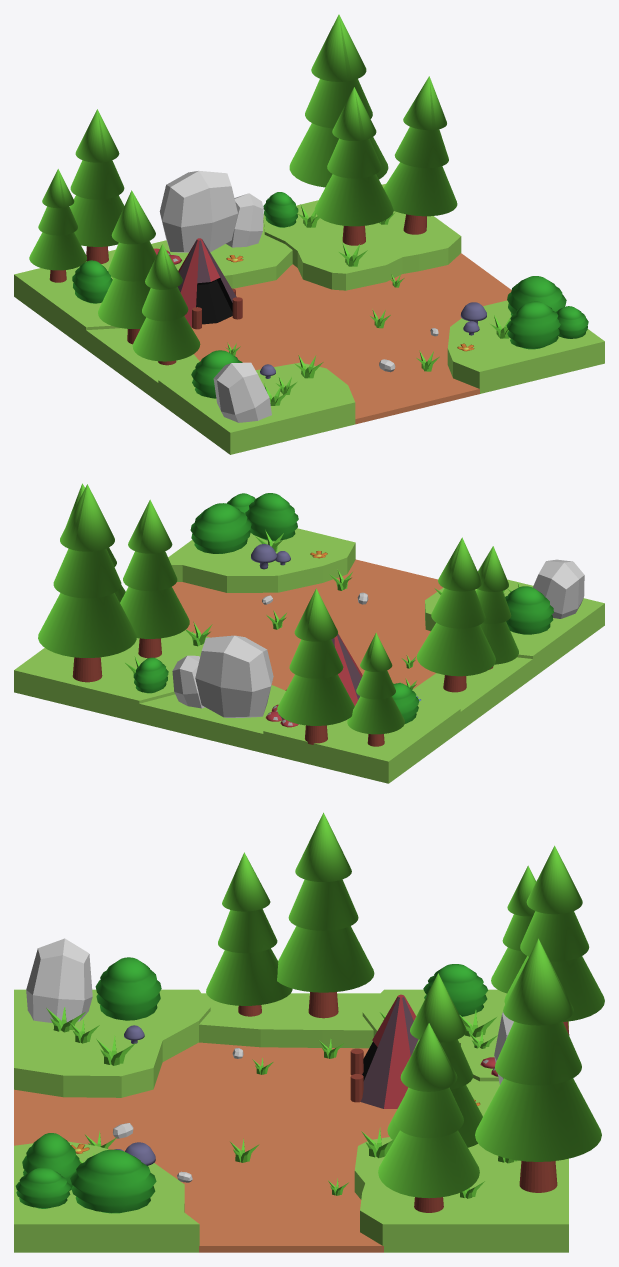
Rendered from jungle level set - 2 Way (5).fbx.
3 renders of one model, top to bottom at view 1: azimuth 30°, elevation 25°; view 2: azimuth 150°, elevation 25°; view 3: azimuth 270°, elevation 25°, orthographic. The views are drawn at different scales.
Parts seen in each view (by area): view 1: land_platform, tree, tree_002, tree_001, tree_006, stone, tree_005, tree_007, camp, tree_003, stone_004, bush_004 (+6 smaller); view 2: land_platform, tree_001, tree_005, tree_006, tree, stone, tree_003, tree_007, bush, stone_004, bush_004, bush_005 (+5 smaller); view 3: land_platform, tree_001, tree_005, tree_002, tree_007, tree_006, camp, stone_004, bush, tree, bush_005, tree_003 (+3 smaller).
Part boxes in pixels (left/top/right/bottom): land_platform: left=14, top=184, right=604, bottom=454; tree: left=314, top=87, right=393, bottom=245; tree_002: left=383, top=76, right=457, bottom=234; tree_001: left=289, top=14, right=388, bottom=187; tree_006: left=70, top=109, right=124, bottom=263; stone: left=159, top=171, right=237, bottom=252; tree_005: left=98, top=190, right=156, bottom=344; tree_007: left=132, top=244, right=200, bottom=365; camp: left=178, top=238, right=242, bottom=329; tree_003: left=29, top=169, right=86, bottom=282; stone_004: left=213, top=362, right=271, bottom=422; bush_004: left=506, top=301, right=560, bottom=349; land_platform: left=14, top=528, right=604, bottom=783; tree_001: left=38, top=484, right=136, bottom=682; tree_005: left=417, top=537, right=495, bottom=692; tree_006: left=277, top=588, right=354, bottom=744; tree: left=120, top=499, right=189, bottom=658; stone: left=195, top=635, right=273, bottom=717; tree_003: left=347, top=632, right=404, bottom=746; tree_007: left=476, top=546, right=518, bottom=669; bush: left=190, top=503, right=251, bottom=553; stone_004: left=533, top=559, right=584, bottom=618; bush_004: left=245, top=493, right=298, bottom=541; bush_005: left=505, top=586, right=553, bottom=634; land_platform: left=14, top=989, right=568, bottom=1252; tree_001: left=475, top=938, right=601, bottom=1192; tree_005: left=277, top=812, right=374, bottom=1018; tree_002: left=378, top=1023, right=479, bottom=1212; tree_007: left=206, top=852, right=292, bottom=1016; tree_006: left=504, top=845, right=604, bottom=1035; camp: left=350, top=994, right=418, bottom=1108; stone_004: left=26, top=938, right=92, bottom=1022; bush: left=70, top=1149, right=156, bottom=1213; tree: left=387, top=973, right=482, bottom=1147; bush_005: left=95, top=957, right=161, bottom=1020; tree_003: left=491, top=865, right=536, bottom=993.
Size of the model in its own units: 15.8 by 8.46 by 16.16.
